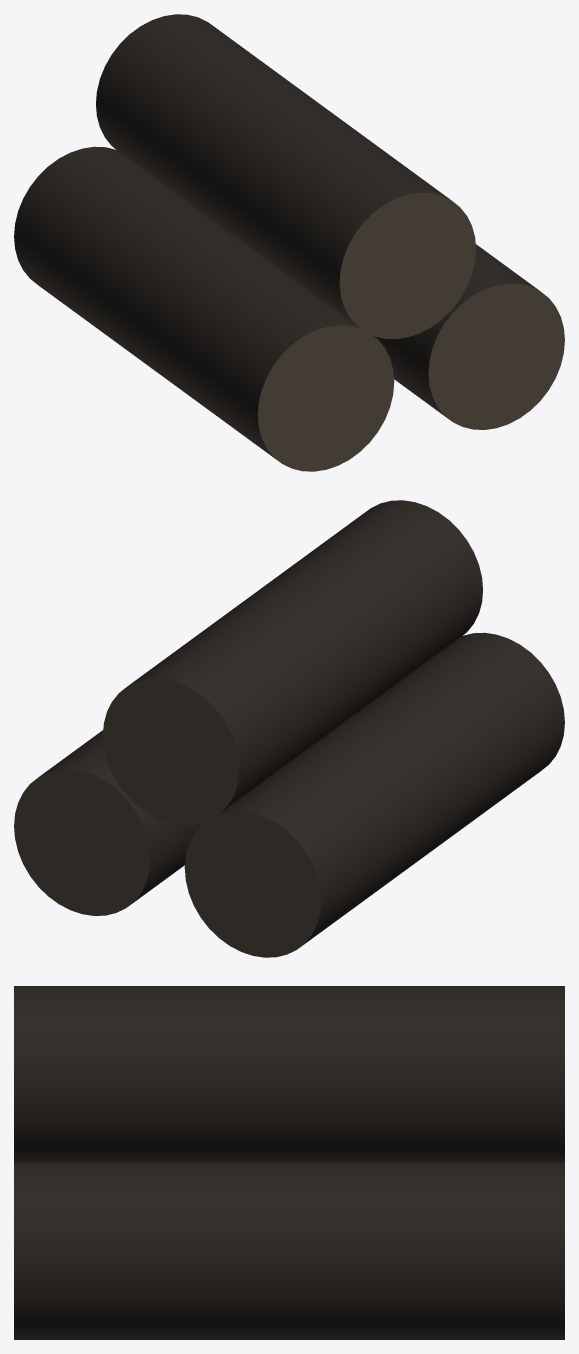
File: leña.fbx
3 renders of one model, top to bottom at view 1: azimuth 30°, elevation 25°; view 2: azimuth 150°, elevation 25°; view 3: azimuth 270°, elevation 25°, orthographic. The views are drawn at different scales.
Parts seen in each view (by area): view 1: tronco, base; view 2: tronco, base; view 3: tronco.
Part boxes in pixels (box(x1,y1,x2,y2)): tronco: box(14, 14, 539, 460); base: box(257, 192, 564, 471); tronco: box(39, 500, 564, 946); base: box(14, 678, 321, 957); tronco: box(14, 986, 564, 1339).
Size of the model in its own units: 58.79 by 46.69 by 80.78.
Materials: 2 (2 with a texture image).
